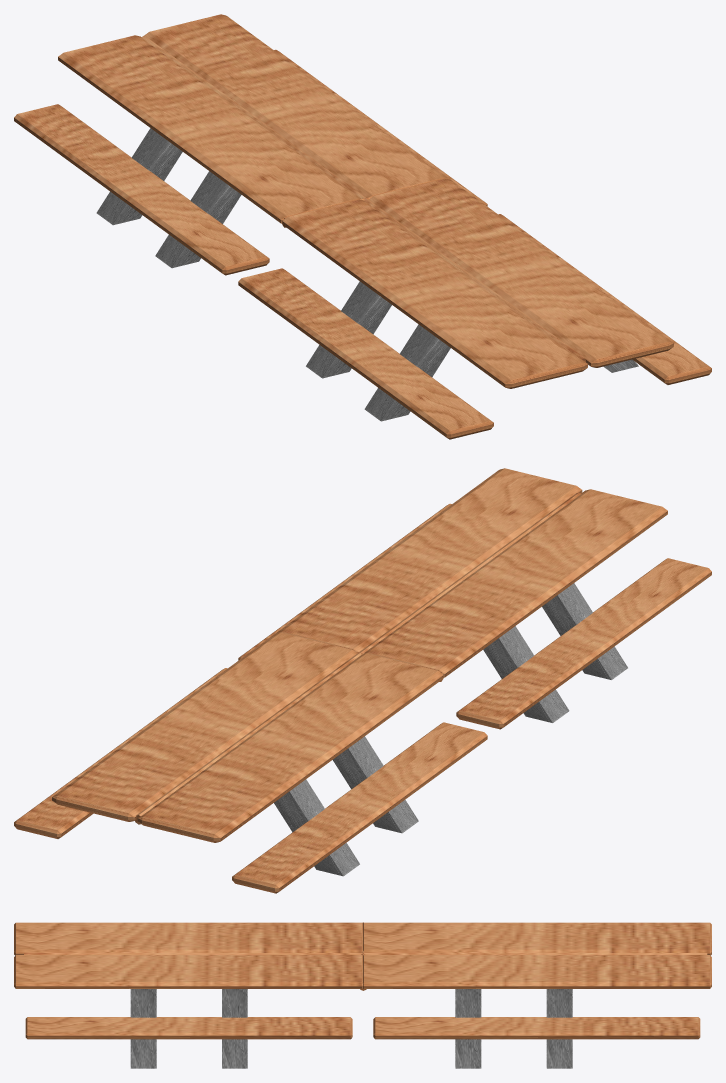
File: Table_Model.fbx
3 renders of one model, top to bottom at view 1: azimuth 30°, elevation 25°; view 2: azimuth 150°, elevation 25°; view 3: azimuth 270°, elevation 25°, orthographic. The views are drawn at different scales.
Parts seen in each view (by area): view 1: pCube4, pCube1, pCube3, pCube2, pCube14, pCube13, pCube15, pCube7, pCube8, pCube6, pCube5, pCylinder1 (+1 smaller); view 2: pCube1, pCube4, pCube2, pCube3, pCube13, pCube14, pCube16, pCube5, pCylinder1, pCube8, pCube6, pCube7 (+1 smaller); view 3: pCube2, pCube3, pCube4, pCube1, pCube15, pCube16, pCube9, pCube10, pCube12, pCube11, pCylinder1.
Boxes of the visible parts, bbox=[...] form: pCube4: bbox=[282, 199, 587, 388]; pCube1: bbox=[58, 35, 361, 223]; pCube3: bbox=[369, 178, 673, 367]; pCube2: bbox=[144, 14, 449, 197]; pCube14: bbox=[14, 104, 269, 275]; pCube13: bbox=[238, 268, 493, 439]; pCube15: bbox=[498, 214, 711, 384]; pCube7: bbox=[155, 171, 241, 268]; pCube8: bbox=[96, 128, 182, 225]; pCube6: bbox=[364, 324, 450, 421]; pCube5: bbox=[306, 281, 391, 378]; pCylinder1: bbox=[141, 36, 586, 361]; pCube1: bbox=[138, 653, 443, 842]; pCube4: bbox=[364, 489, 667, 677]; pCube2: bbox=[52, 632, 355, 821]; pCube3: bbox=[276, 468, 582, 651]; pCube13: bbox=[456, 558, 711, 729]; pCube14: bbox=[232, 722, 487, 893]; pCube16: bbox=[14, 668, 227, 838]; pCube5: bbox=[483, 626, 569, 722]; pCylinder1: bbox=[135, 492, 580, 824]; pCube8: bbox=[274, 779, 359, 876]; pCube6: bbox=[542, 583, 627, 679]; pCube7: bbox=[333, 736, 418, 833]; pCube2: bbox=[363, 955, 711, 988]; pCube3: bbox=[14, 955, 362, 988]; pCube4: bbox=[14, 922, 362, 955]; pCube1: bbox=[363, 922, 711, 955]; pCube15: bbox=[25, 1017, 352, 1039]; pCube16: bbox=[373, 1017, 700, 1039]; pCube9: bbox=[546, 989, 572, 1068]; pCube10: bbox=[455, 989, 481, 1068]; pCube12: bbox=[130, 989, 156, 1068]; pCube11: bbox=[222, 989, 247, 1068]; pCylinder1: bbox=[24, 953, 707, 954].
Bounding box in the file's own units: 11.57 × 3.74 × 33.99.
Materials: 2 (2 with a texture image).
